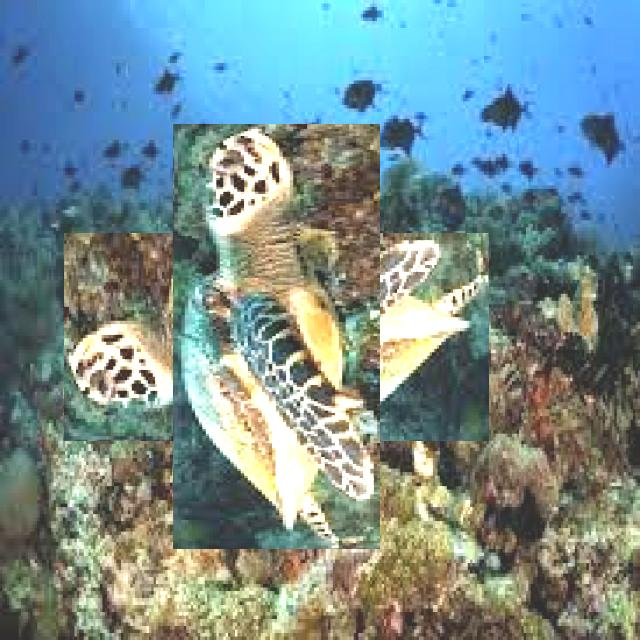Sea turtle: (118, 179, 435, 495)
